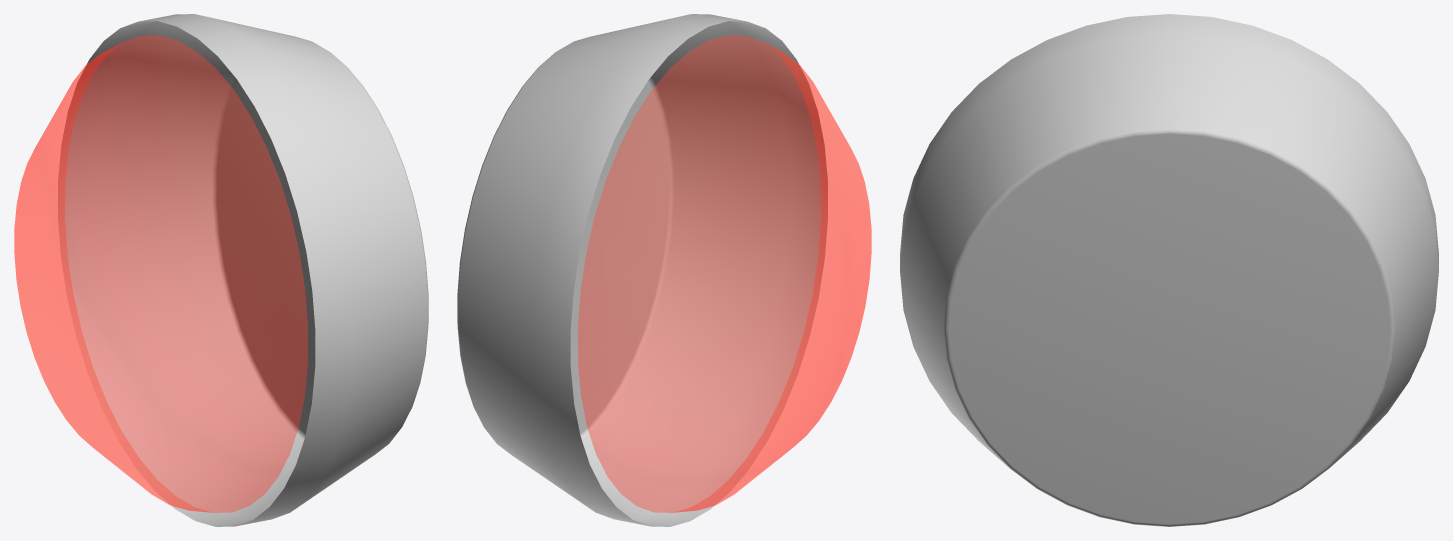
Rendered from bike_cafe_racer__tail_light.glb.
3 views of the same model, side by side, from view 1: azimuth 30°, elevation 25°; view 2: azimuth 150°, elevation 25°; view 3: azimuth 270°, elevation 25° (orthographic). The views are drawn at different scales.
Visible parts, largest first — view 1: electrical__tail_light, electrical__tail_light__lens; view 2: electrical__tail_light, electrical__tail_light__lens; view 3: electrical__tail_light.
Part boxes in pixels (box(x1,y1,x2,y2)): electrical__tail_light: box(58, 14, 428, 526); electrical__tail_light__lens: box(14, 35, 307, 512); electrical__tail_light: box(457, 14, 827, 526); electrical__tail_light__lens: box(578, 35, 871, 512); electrical__tail_light: box(900, 14, 1438, 526).
Bounding box in the file's own units: 4.19 × 7.22 × 7.2.
